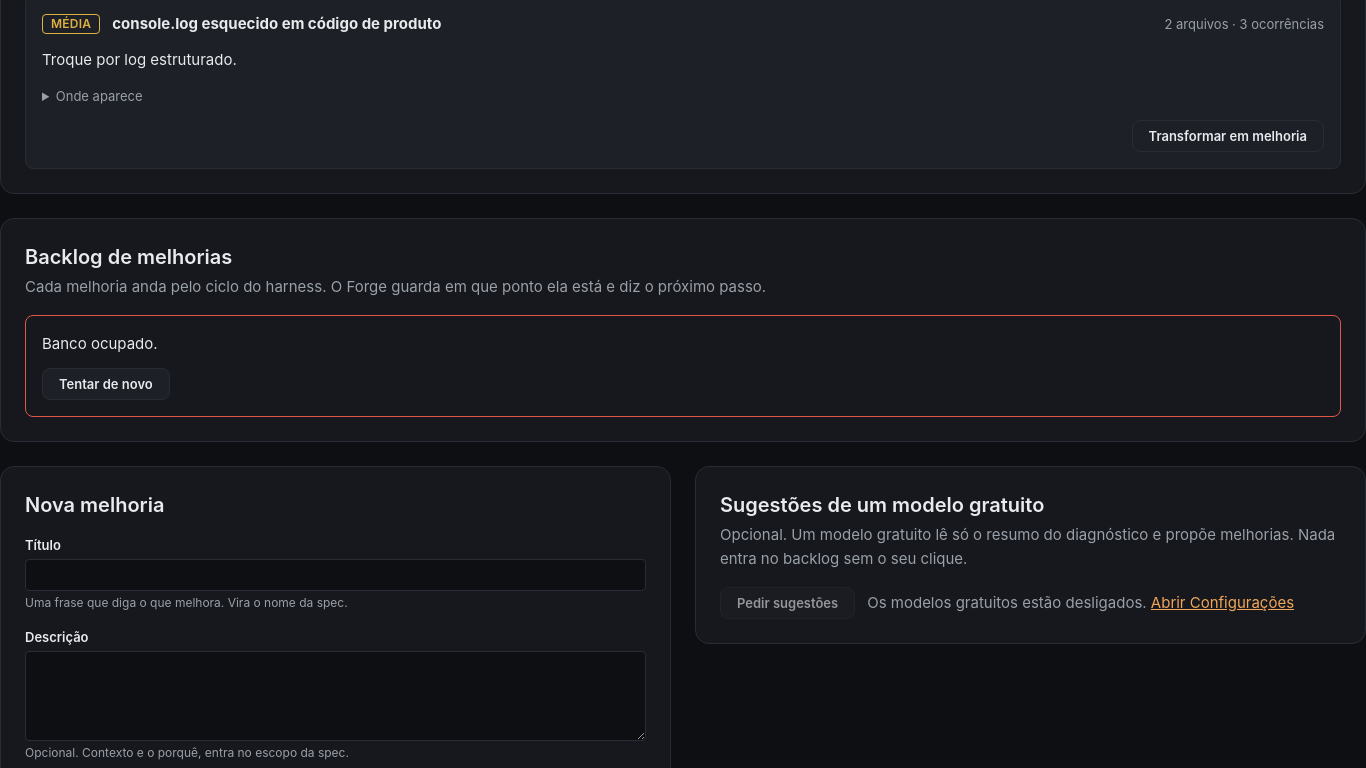
Test: PaginaReforja: estados › erro no backlog tem tentar de novo
(page scrolled)
Expected: the message shows "Banco ocupado.", [42,334,158,353]
Click the button "Tentar de novo".
click(106, 384)  # box [42,368,170,400]
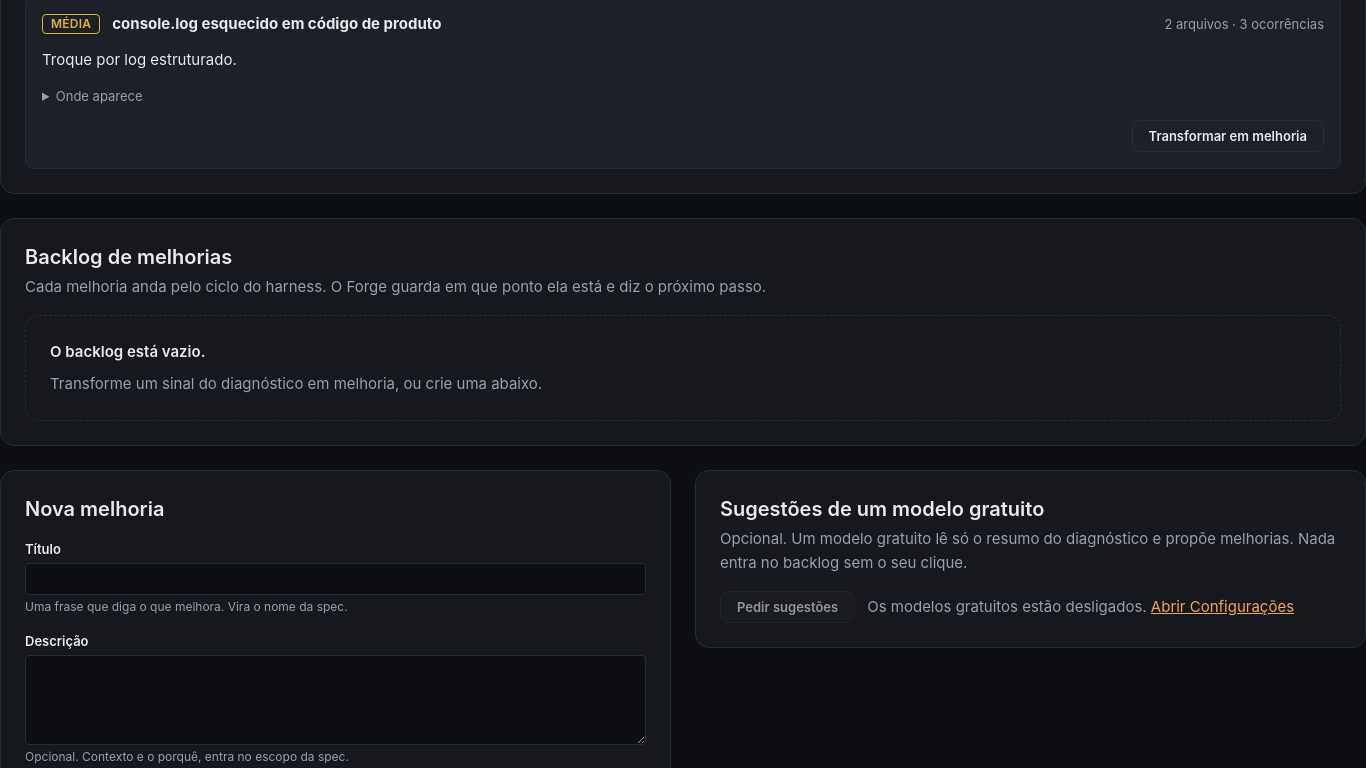
Result: the text "O backlog está vazio." is shown at [50,342,205,361]
